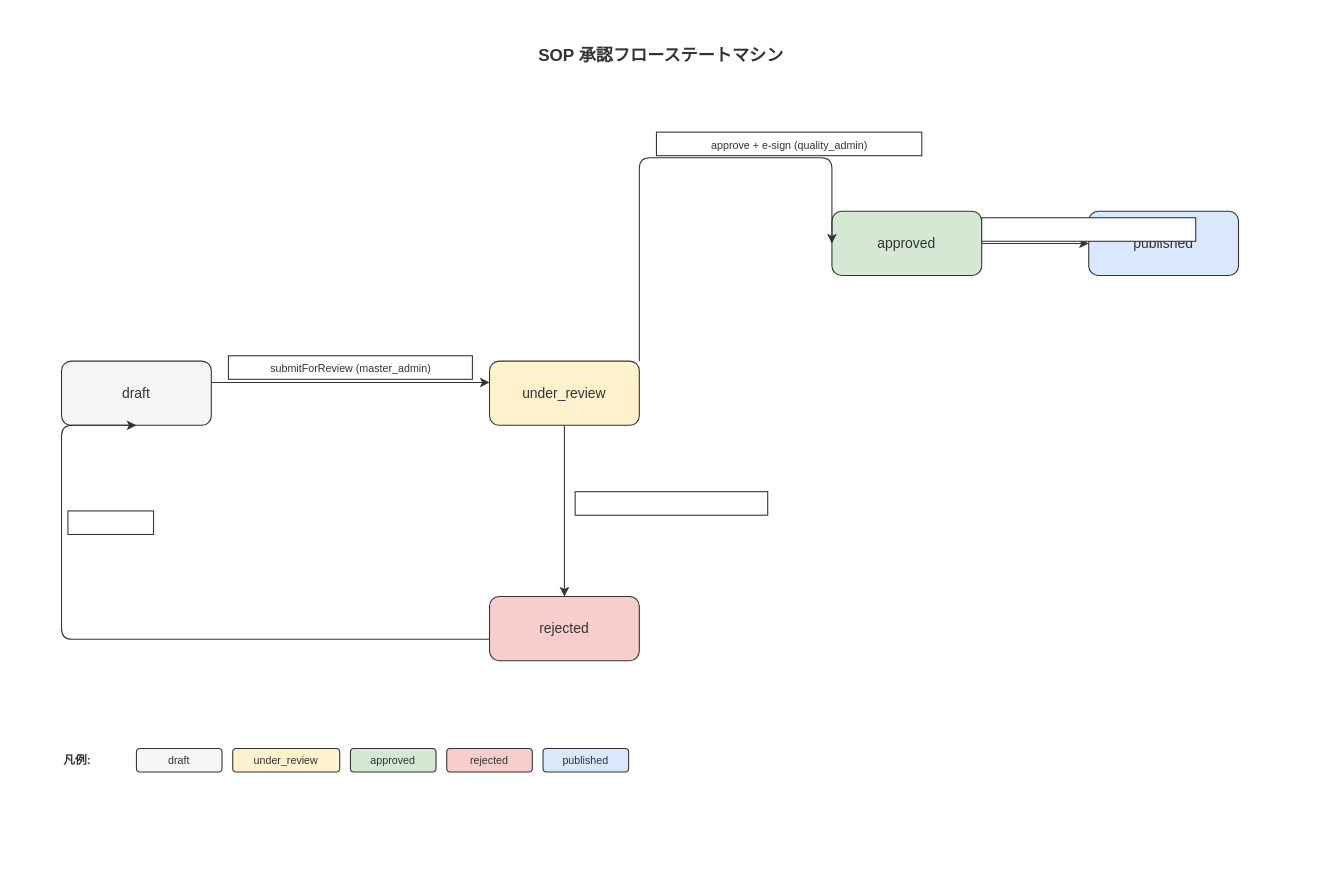
This 1320x892 diagram has some shape labels left out. The centre of each missing label's shape, as x and y in pixels:
publish + effectiveDate: (1088,229)
reject (quality_admin): (671,503)
revise: (110,522)
